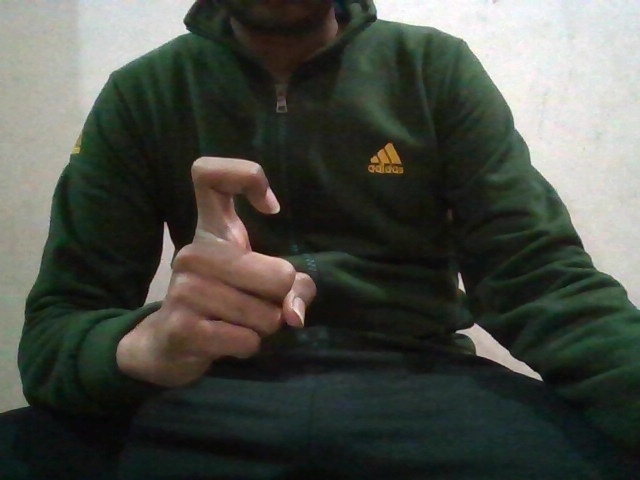P: (171, 154, 309, 375)
